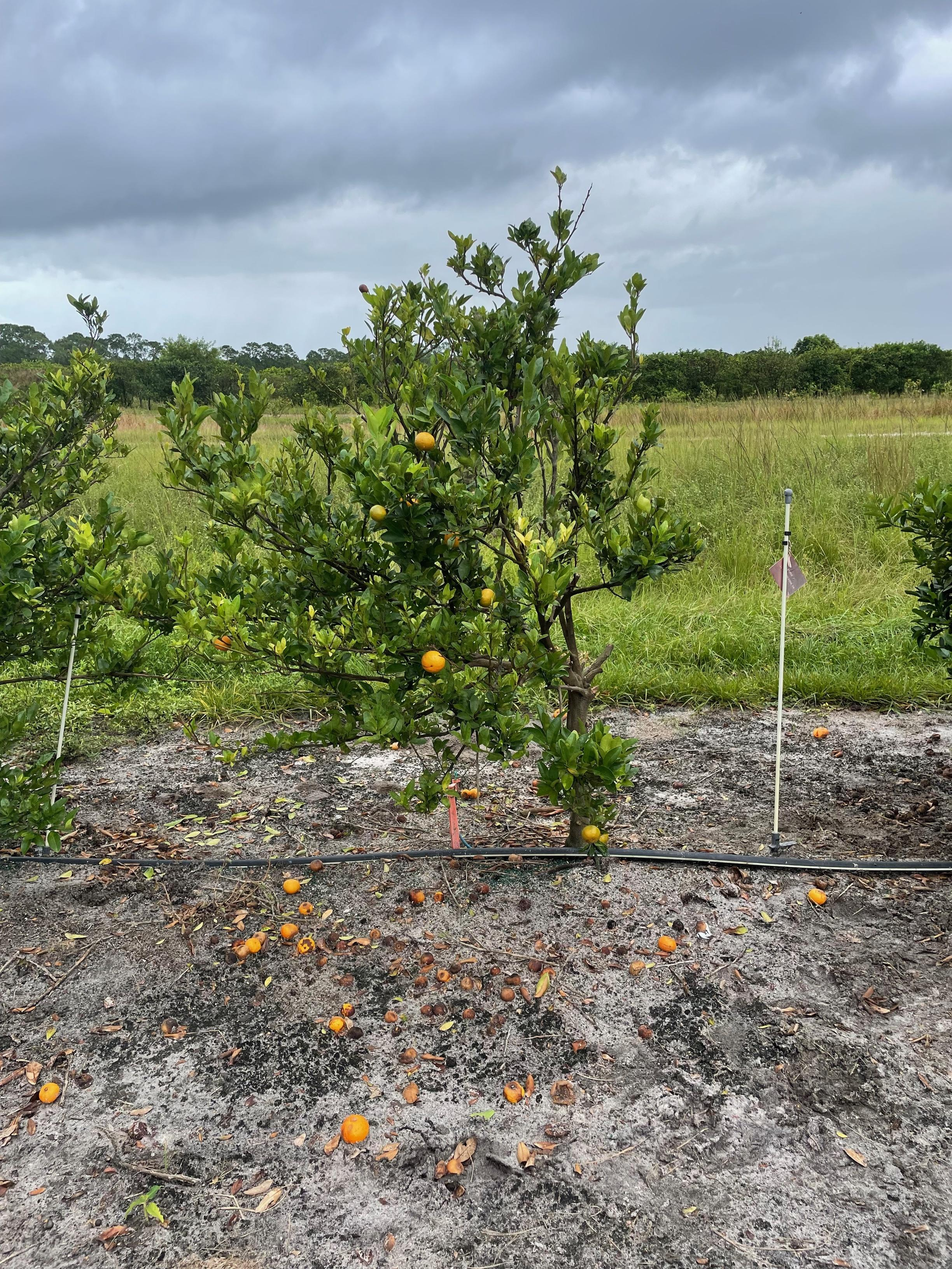fruit_on_ground: (420, 648, 447, 674), (441, 527, 468, 552), (413, 429, 437, 453), (476, 586, 499, 609), (580, 823, 602, 845), (211, 632, 234, 653), (368, 503, 389, 524), (398, 492, 422, 510), (594, 830, 610, 847), (357, 283, 369, 294)
fruit_on_tree: (340, 1112, 370, 1144), (549, 1078, 578, 1106), (37, 1079, 62, 1105), (502, 1079, 525, 1103), (806, 886, 828, 906), (657, 933, 677, 953), (159, 1016, 178, 1037), (243, 934, 263, 953), (296, 936, 316, 955), (279, 921, 300, 939), (231, 938, 250, 957), (281, 876, 301, 894), (327, 1015, 346, 1033), (459, 974, 478, 991), (296, 899, 315, 916), (305, 856, 325, 872), (460, 785, 480, 800), (409, 887, 426, 904), (628, 959, 646, 975), (810, 725, 830, 739), (346, 1023, 364, 1038), (400, 1046, 418, 1060), (461, 1005, 477, 1020), (527, 956, 542, 972), (499, 986, 515, 1001), (435, 968, 452, 982), (341, 1001, 356, 1016), (382, 1009, 398, 1023), (506, 973, 523, 986), (431, 889, 445, 904), (368, 925, 382, 939), (412, 974, 427, 987), (432, 1002, 445, 1015)
